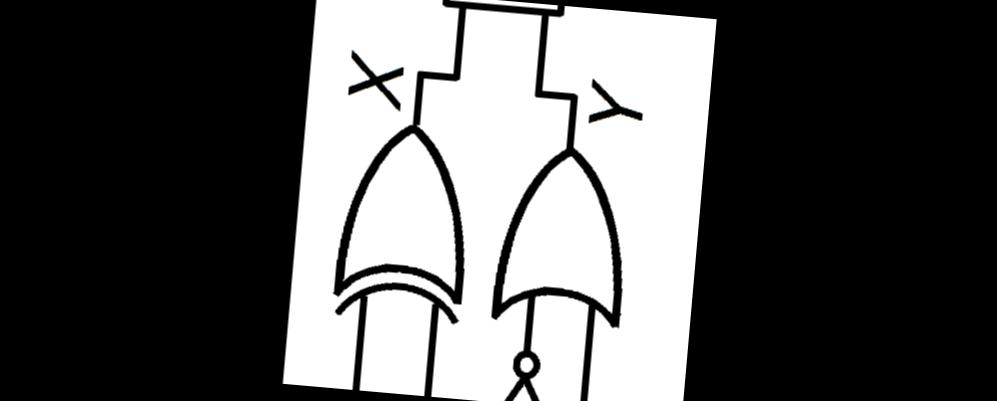not: (461, 332, 581, 401)
or: (479, 124, 640, 338)
xor: (319, 103, 483, 336)
